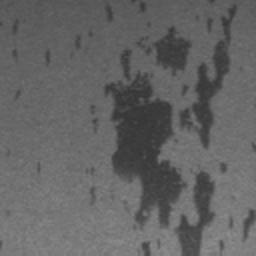Red iron sheet: (90, 0, 256, 256), (10, 19, 19, 37), (141, 241, 151, 256), (12, 49, 19, 64), (76, 33, 82, 50), (44, 51, 50, 67), (90, 186, 95, 204), (251, 143, 256, 154), (36, 163, 41, 174)
